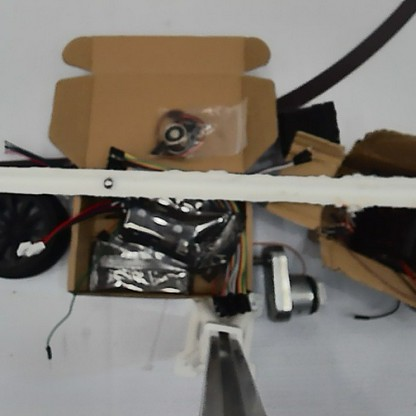ironball: (103, 175, 113, 190)
